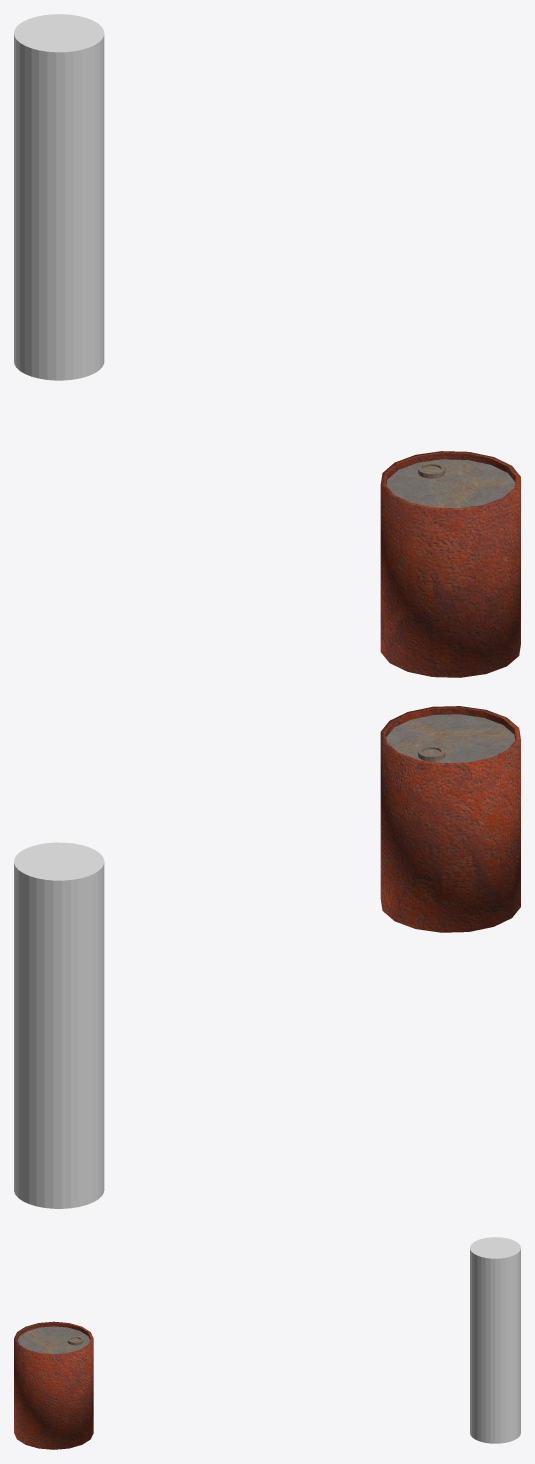
The model's file is barrel.glb.
3 views of the same model, one above another, from view 1: azimuth 30°, elevation 25°; view 2: azimuth 150°, elevation 25°; view 3: azimuth 270°, elevation 25° (orthographic). The views are drawn at different scales.
Parts seen in each view (by area): view 1: Ref-noimp, Barrel; view 2: Ref-noimp, Barrel; view 3: Ref-noimp, Barrel.
Boxes of the visible parts, box(x1,y1,x2,y2) form: Ref-noimp: box(14, 14, 104, 380); Barrel: box(380, 451, 520, 677); Ref-noimp: box(14, 842, 104, 1208); Barrel: box(380, 706, 520, 932); Ref-noimp: box(470, 1237, 520, 1443); Barrel: box(14, 1321, 93, 1449).
Size of what is drawn, in the model's own units: 0.7814 by 2 by 4.97.
2 materials, 2 textured.
